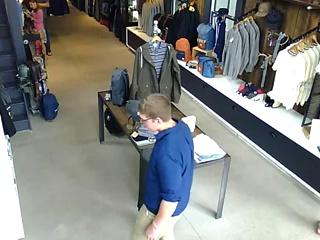Normal: (132, 94, 195, 239), (36, 0, 52, 56)
